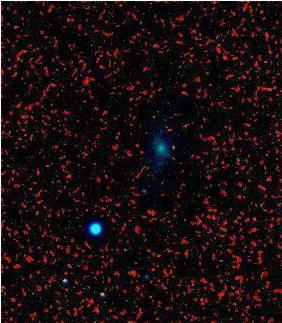star: (158, 133, 188, 163)
